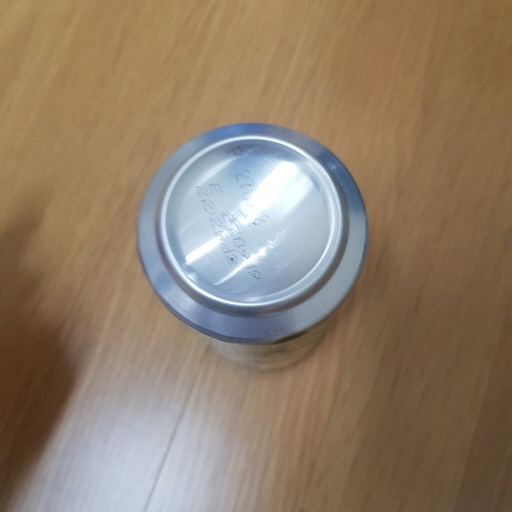Metal_0: (134, 118, 368, 372)
